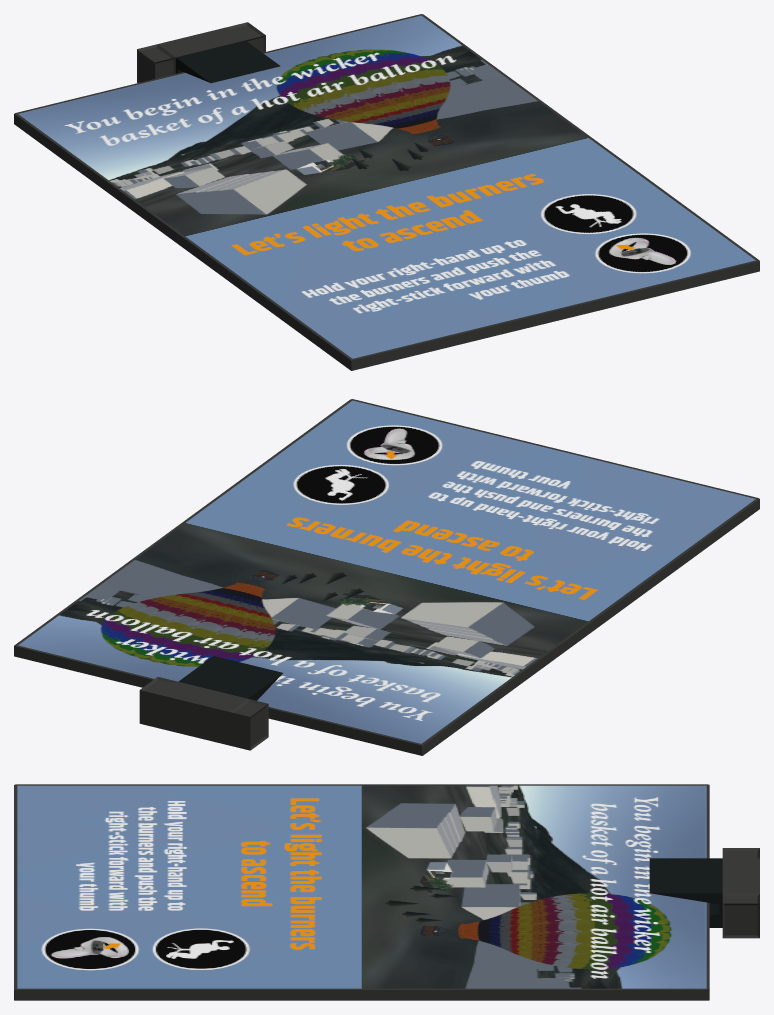
The model's file is tutorial_clip2.obj.
3 views of the same model, one above another, from view 1: azimuth 30°, elevation 25°; view 2: azimuth 150°, elevation 25°; view 3: azimuth 270°, elevation 25° (orthographic). The views are drawn at different scales.
Parts seen in each view (by area): view 1: clipboard_tutorial_2_clipboard; view 2: clipboard_tutorial_2_clipboard; view 3: clipboard_tutorial_2_clipboard.
Boxes of the visible parts, x1,y1,x2,y2 form: clipboard_tutorial_2_clipboard: [14, 14, 759, 370]; clipboard_tutorial_2_clipboard: [14, 399, 759, 755]; clipboard_tutorial_2_clipboard: [14, 784, 759, 1000].
Bounding box in the file's own units: 0.2144 × 0.0169 × 0.3289.
4 materials, 2 textured.
